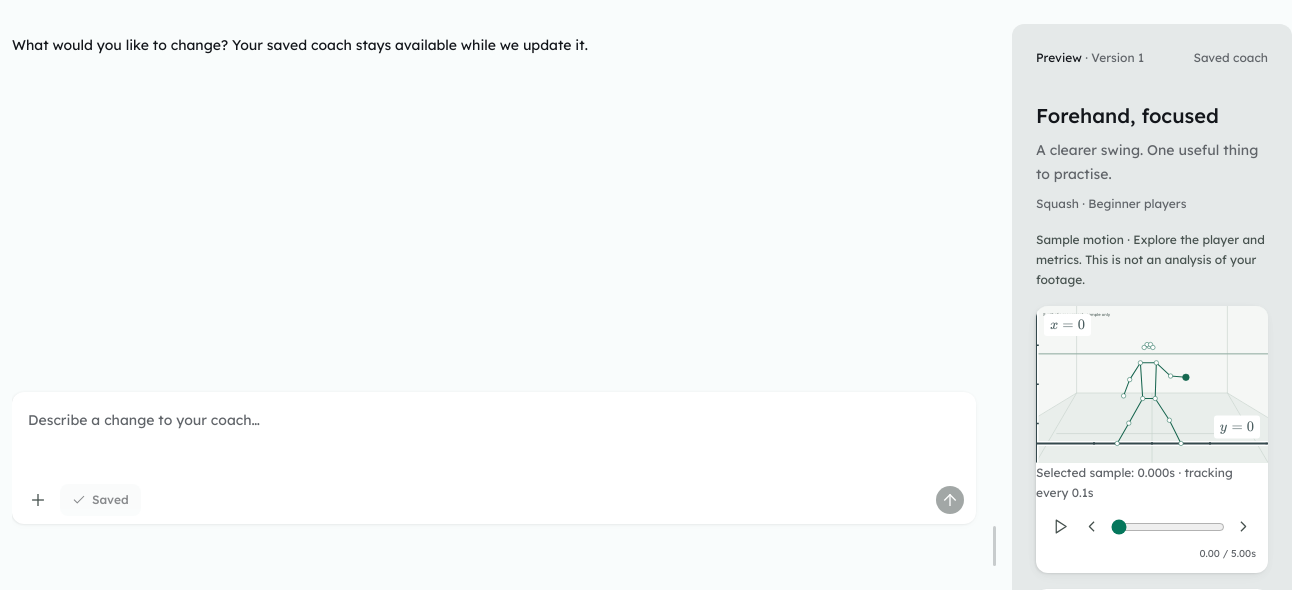
preserves a saved preview after failed repair and retries the request
The width and height of the screenshot is (1292, 590).
Type "Make it gentler" into the text box named "Answer the builder" at (494, 440), box x1=24 y1=408 x2=964 y2=472
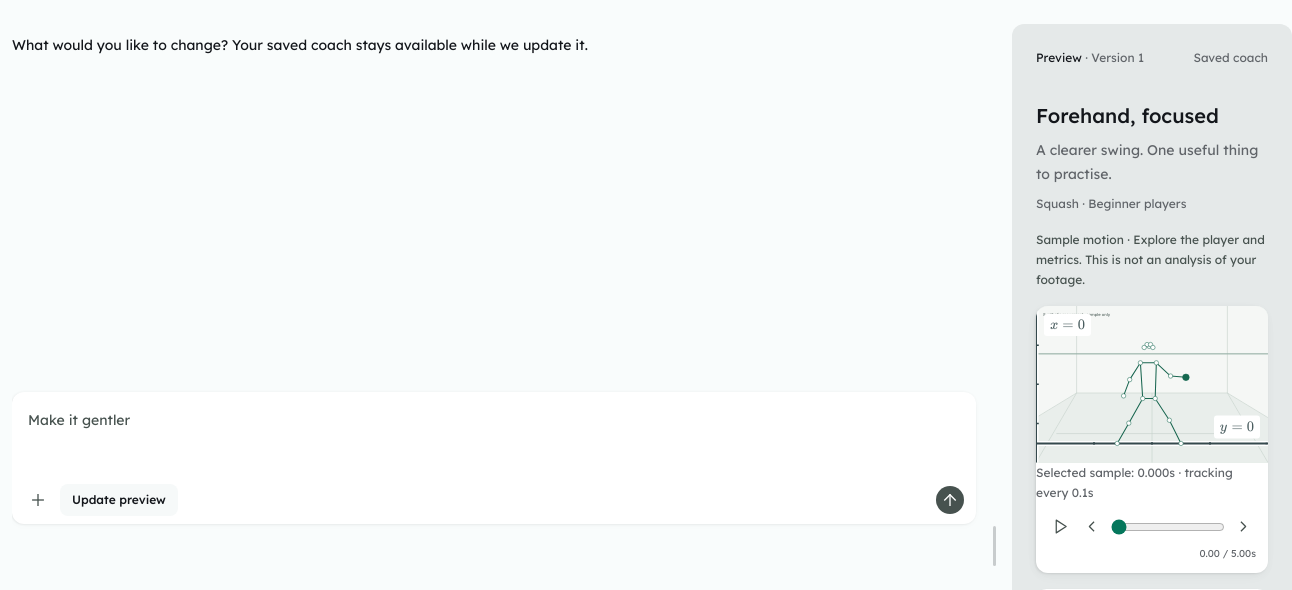
Click the button named "Send answer" at (950, 500), box x1=936 y1=486 x2=964 y2=514
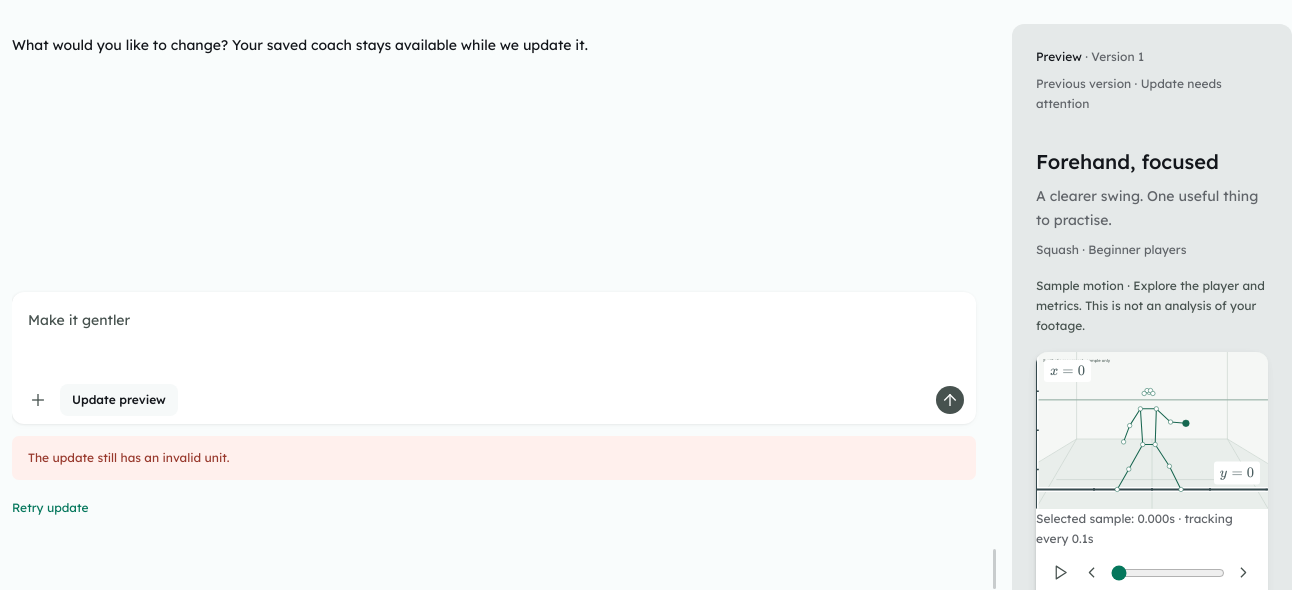
Expected: the heading "Forehand, focused" is shown, x1=1036 y1=149 x2=1219 y2=174
Result: the text "The update still has an invalid unit." is shown at x1=28 y1=448 x2=230 y2=468
Click the button "Retry update" at (50, 508), box x1=12 y1=492 x2=976 y2=524
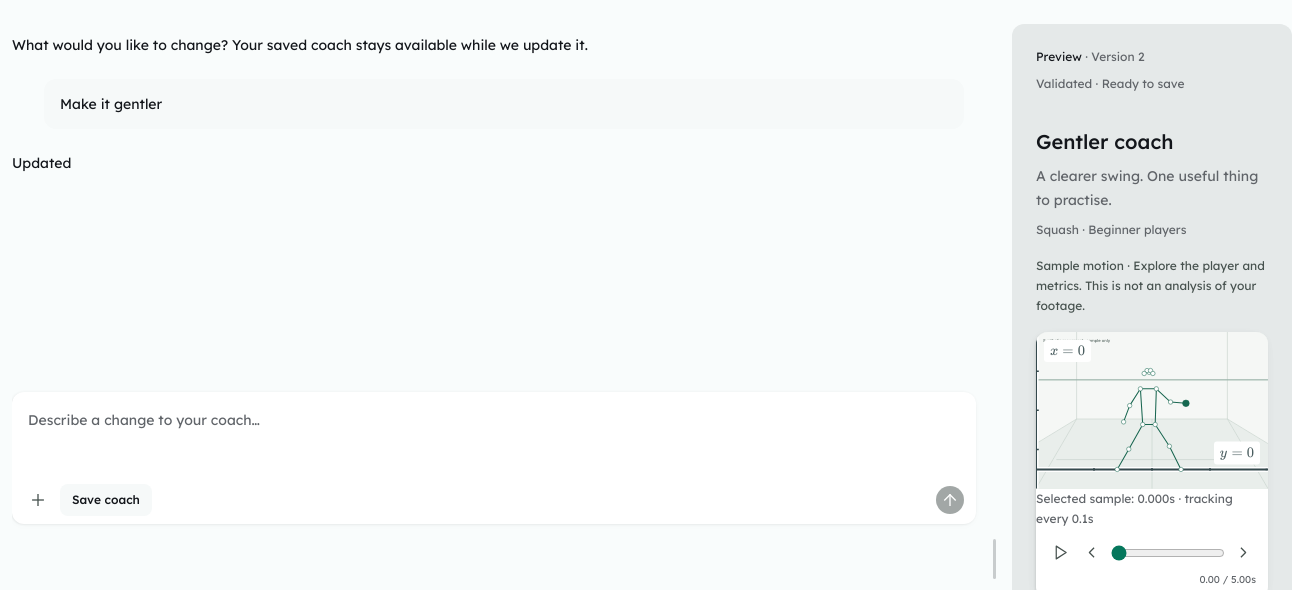
Result: the button "Save coach" is enabled at x1=60 y1=484 x2=152 y2=516
Result: the heading "Gentler coach" is shown at x1=1036 y1=129 x2=1173 y2=154
